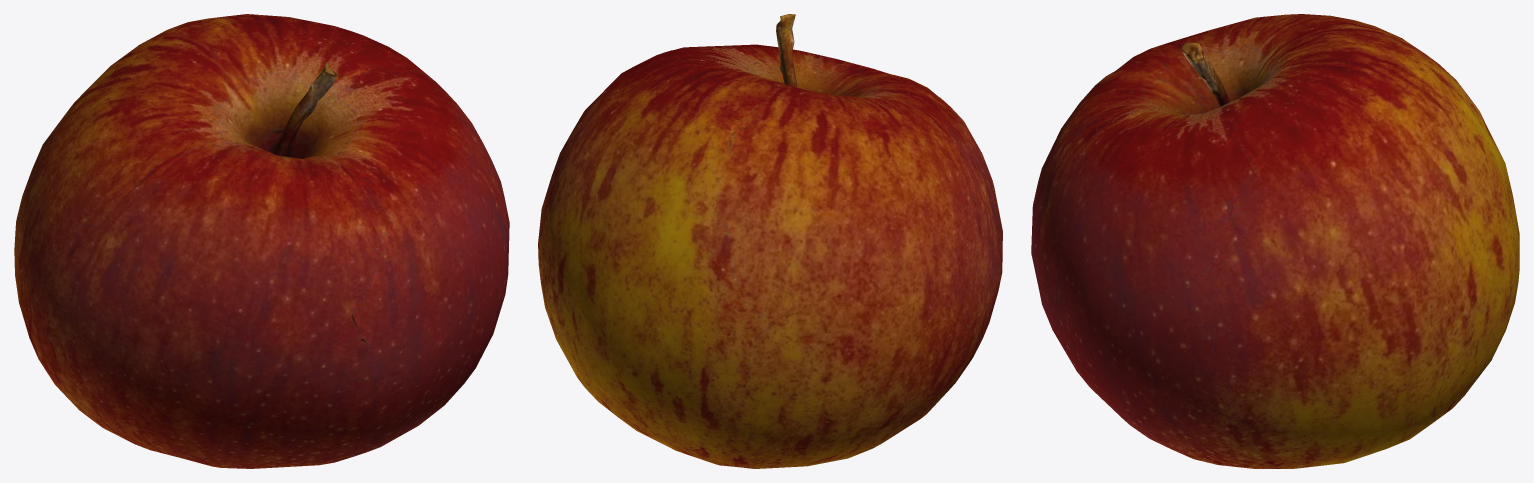
Rendered from apple-0-near.glb.
3 views of the same model, side by side, from view 1: azimuth 30°, elevation 25°; view 2: azimuth 150°, elevation 25°; view 3: azimuth 270°, elevation 25° (orthographic). The views are drawn at different scales.
Visible parts, largest first — view 1: food_apple_01; view 2: food_apple_01; view 3: food_apple_01.
Boxes of the visible parts, x1,y1,x2,y2 form: food_apple_01: (14, 14, 509, 468); food_apple_01: (538, 14, 1002, 468); food_apple_01: (1031, 14, 1519, 468).
Bounding box in the file's own units: 0.115 × 0.1007 × 0.113.
Materials: 1 (1 with a texture image).
